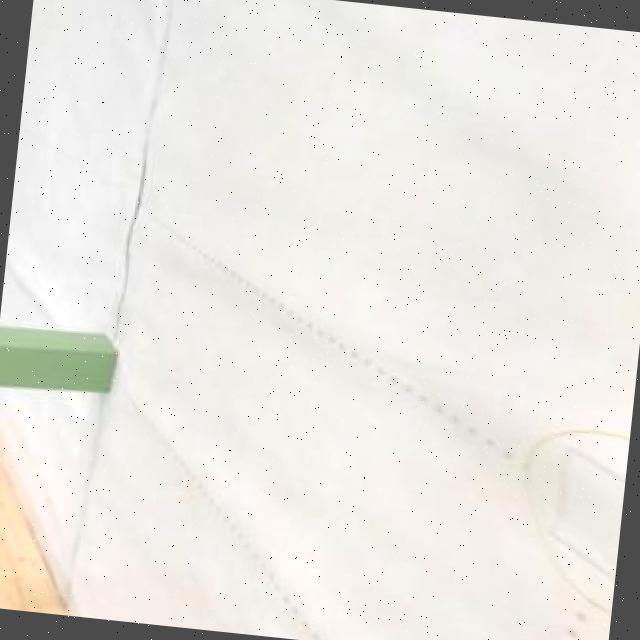greenbox: (0, 318, 118, 404)
